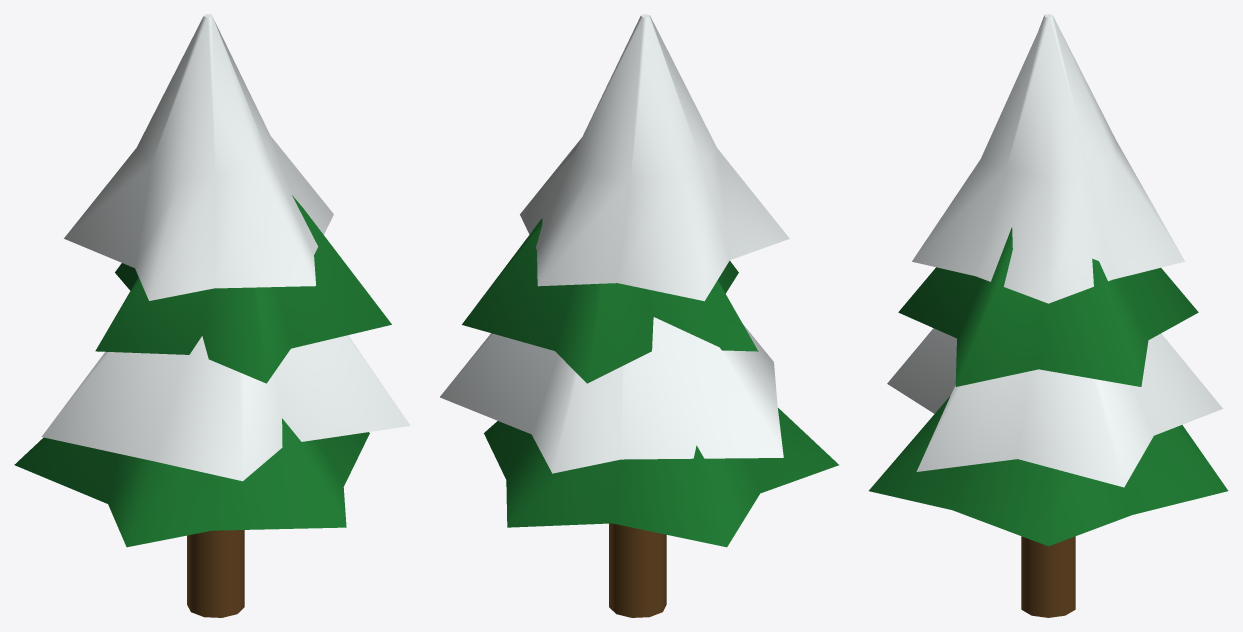
Rendered from TreeWhite.fbx.
The picture shows the model from 3 angles, left to right: view 1: azimuth 30°, elevation 25°; view 2: azimuth 150°, elevation 25°; view 3: azimuth 270°, elevation 25°; orthographic projection.
Parts seen in each view (by area): view 1: Cone023; view 2: Cone023; view 3: Cone023.
Boxes of the visible parts, x1,y1,x2,y2 form: Cone023: (14,14,410,617); Cone023: (440,14,838,617); Cone023: (869,14,1228,617).
Size of the model in its own units: 18.46 by 32.6 by 18.15.
Materials: 3 (3 with a texture image).
